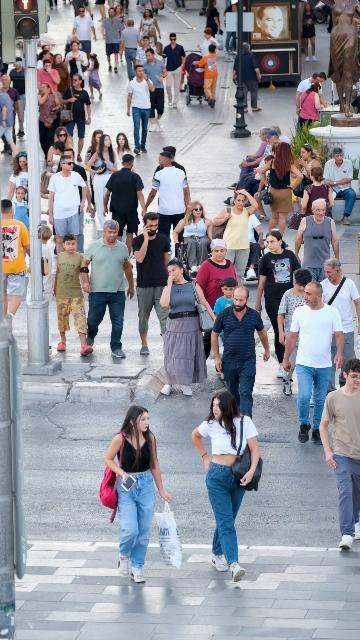person: (191, 390, 261, 583), (99, 405, 173, 584), (281, 281, 346, 444), (317, 358, 360, 551), (210, 286, 270, 423), (159, 258, 216, 397), (80, 219, 135, 359), (254, 229, 302, 380), (130, 212, 172, 356), (319, 257, 360, 392), (195, 238, 238, 360), (52, 233, 94, 357), (276, 267, 315, 397), (257, 141, 304, 245), (145, 151, 192, 253), (103, 153, 147, 260), (212, 188, 259, 285), (47, 155, 87, 257), (294, 198, 340, 284), (2, 200, 30, 341), (85, 134, 120, 240), (230, 129, 280, 201), (224, 154, 275, 223), (173, 201, 214, 274), (221, 129, 237, 312), (226, 127, 270, 190), (323, 147, 357, 226), (137, 47, 168, 133), (126, 65, 155, 155), (62, 74, 91, 164), (57, 148, 93, 218), (40, 126, 73, 199), (232, 42, 263, 113), (37, 82, 65, 159), (294, 143, 325, 204), (295, 72, 327, 130), (162, 33, 186, 109), (299, 167, 334, 219), (191, 45, 219, 108), (211, 276, 239, 338), (118, 18, 142, 82), (6, 151, 30, 210), (0, 80, 18, 155), (64, 40, 90, 90), (49, 54, 72, 110), (40, 225, 56, 305), (71, 7, 96, 58), (102, 8, 121, 74), (247, 213, 265, 281), (138, 9, 162, 58), (300, 82, 326, 124), (84, 130, 104, 181), (301, 2, 318, 62), (158, 145, 187, 178), (112, 132, 134, 172), (11, 185, 30, 229), (197, 28, 224, 57), (7, 57, 26, 97), (87, 54, 103, 100), (38, 60, 60, 91), (205, 0, 221, 39), (47, 141, 65, 173), (135, 36, 151, 64), (113, 4, 128, 33)
